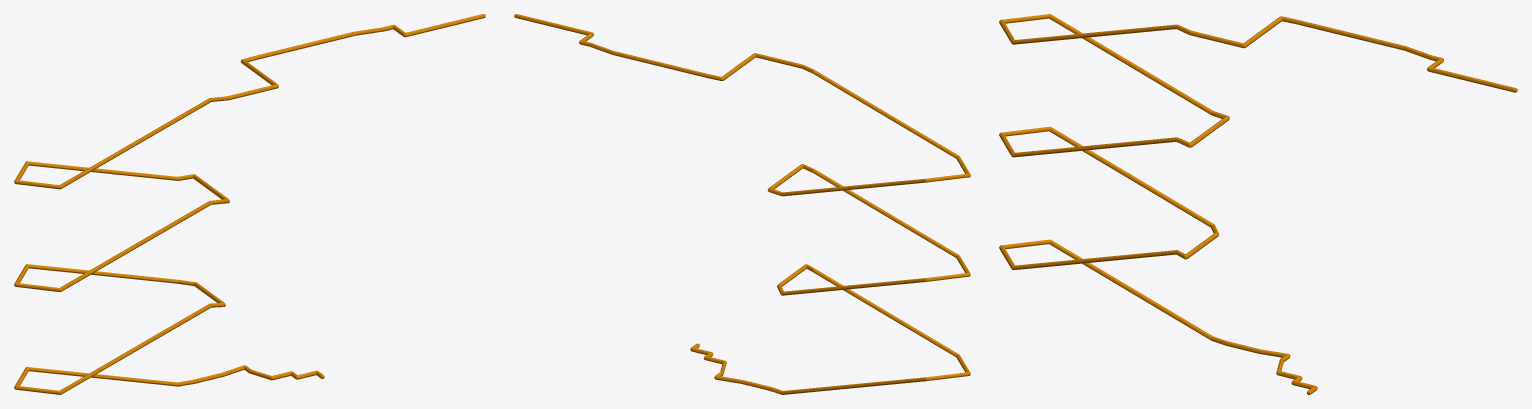
The picture shows the model from 3 angles, left to right: view 1: azimuth 30°, elevation 25°; view 2: azimuth 150°, elevation 25°; view 3: azimuth 330°, elevation 25°; orthographic projection. The views are drawn at different scales.
Bounding box in the file's own units: 2402 × 1520 × 339.
